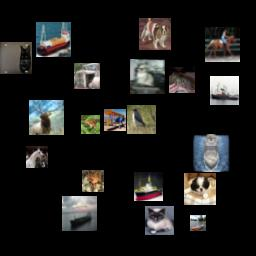airplane: (104, 109, 126, 131)
bird: (127, 105, 156, 134)
cat: (130, 59, 165, 94), (0, 42, 32, 74), (145, 206, 174, 235), (169, 67, 195, 93)
deer: (29, 100, 64, 135)
dog: (184, 173, 216, 205), (139, 18, 171, 50)
frog: (82, 170, 104, 192), (81, 115, 100, 134)
ship: (192, 134, 230, 172), (36, 22, 71, 57), (62, 196, 97, 231), (210, 76, 239, 105), (134, 172, 163, 201), (190, 215, 206, 231)
truck: (74, 63, 100, 89)
